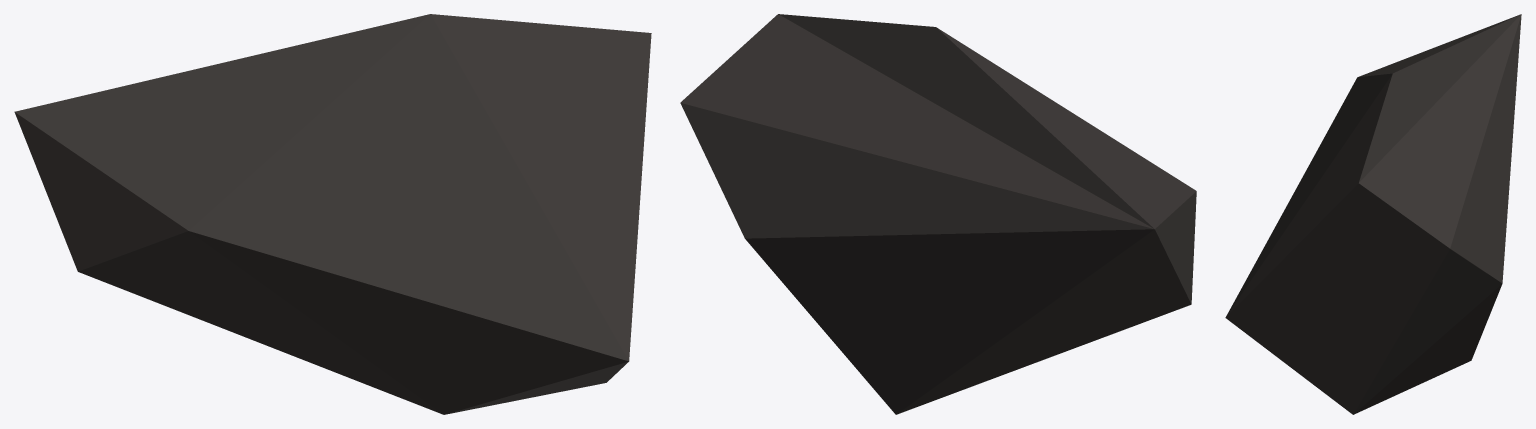
The model's file is Rock_Single_4_LOD_1.fbx.
3 views of the same model, side by side, from view 1: azimuth 30°, elevation 25°; view 2: azimuth 150°, elevation 25°; view 3: azimuth 270°, elevation 25° (orthographic). The views are drawn at different scales.
Visible parts, largest first — view 1: Group24401; view 2: Group24401; view 3: Group24401.
Part boxes in pixels (x1,y1,x2,y2): Group24401: [14, 14, 651, 414]; Group24401: [680, 14, 1196, 414]; Group24401: [1225, 14, 1521, 414].
Size of the model in its own units: 1.17 by 0.7562 by 0.6996.
